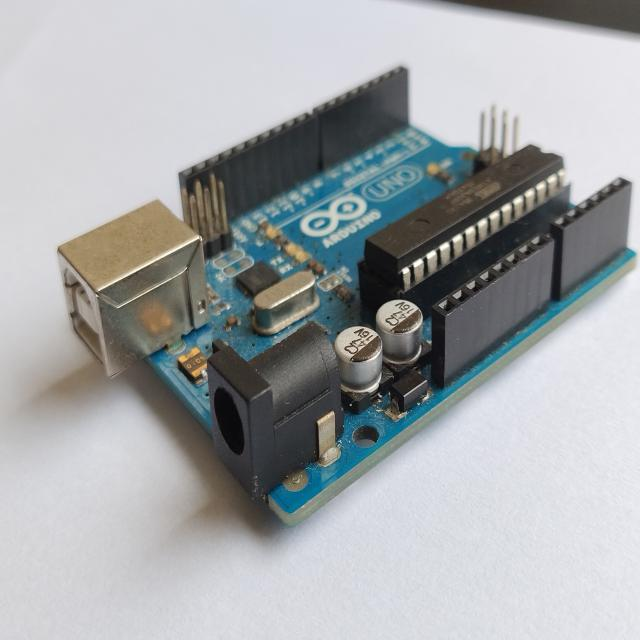arduino: (67, 59, 640, 538)
